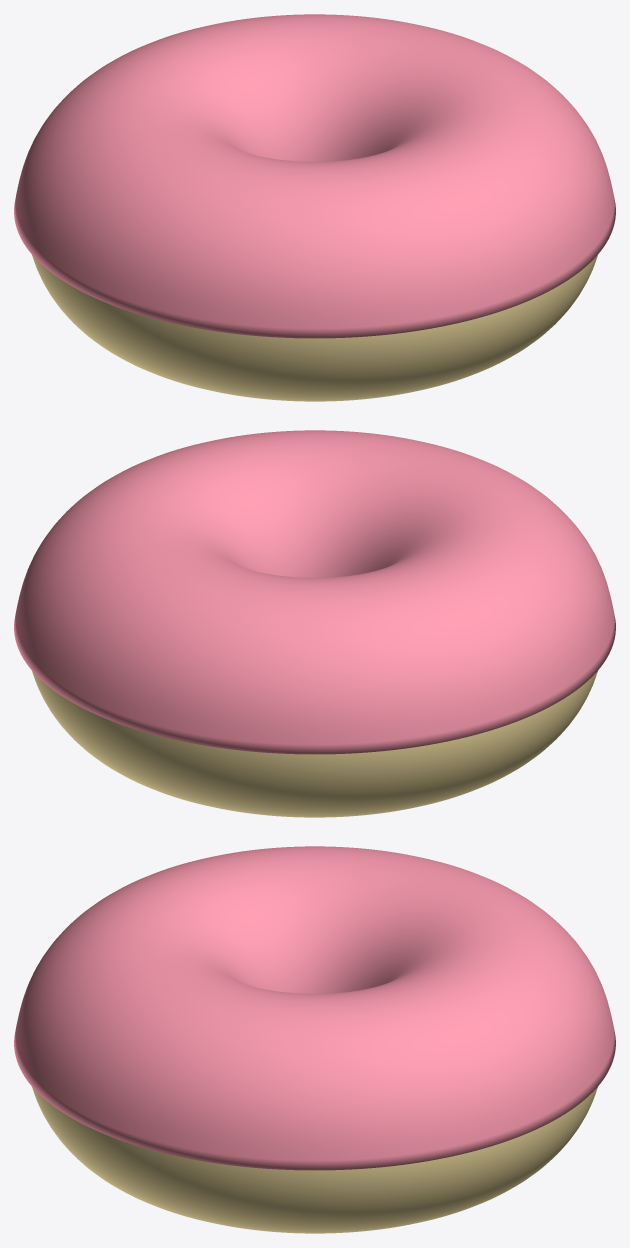
The model's file is dount.glb.
The picture shows the model from 3 angles, top to bottom: view 1: azimuth 30°, elevation 25°; view 2: azimuth 150°, elevation 25°; view 3: azimuth 270°, elevation 25°; orthographic projection.
Visible parts, largest first — view 1: Icing_3, Dount_2; view 2: Icing_3, Dount_2; view 3: Icing_3, Dount_2.
Part boxes in pixels (<box>): Icing_3: <box>14,14,615,338</box>; Dount_2: <box>32,255,597,401</box>; Icing_3: <box>14,430,615,754</box>; Dount_2: <box>32,671,597,817</box>; Icing_3: <box>14,846,615,1170</box>; Dount_2: <box>32,1087,597,1233</box>.
Size of the model in its own units: 3.13 by 1.25 by 3.13.
